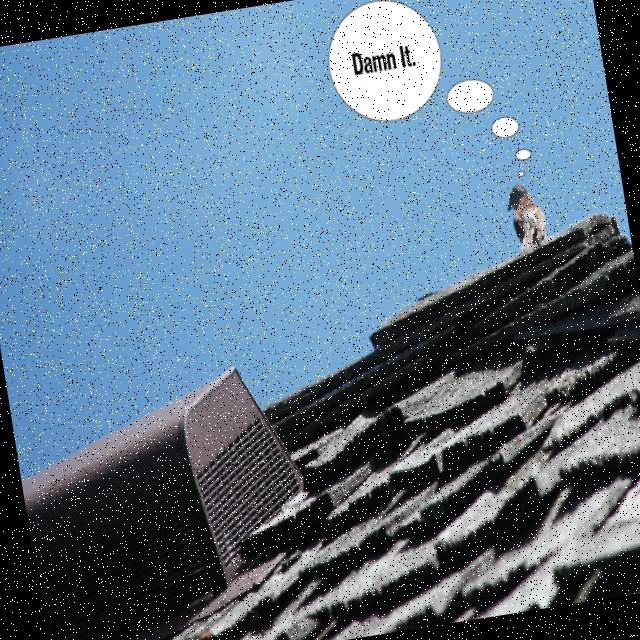bird: (502, 180, 550, 254)
